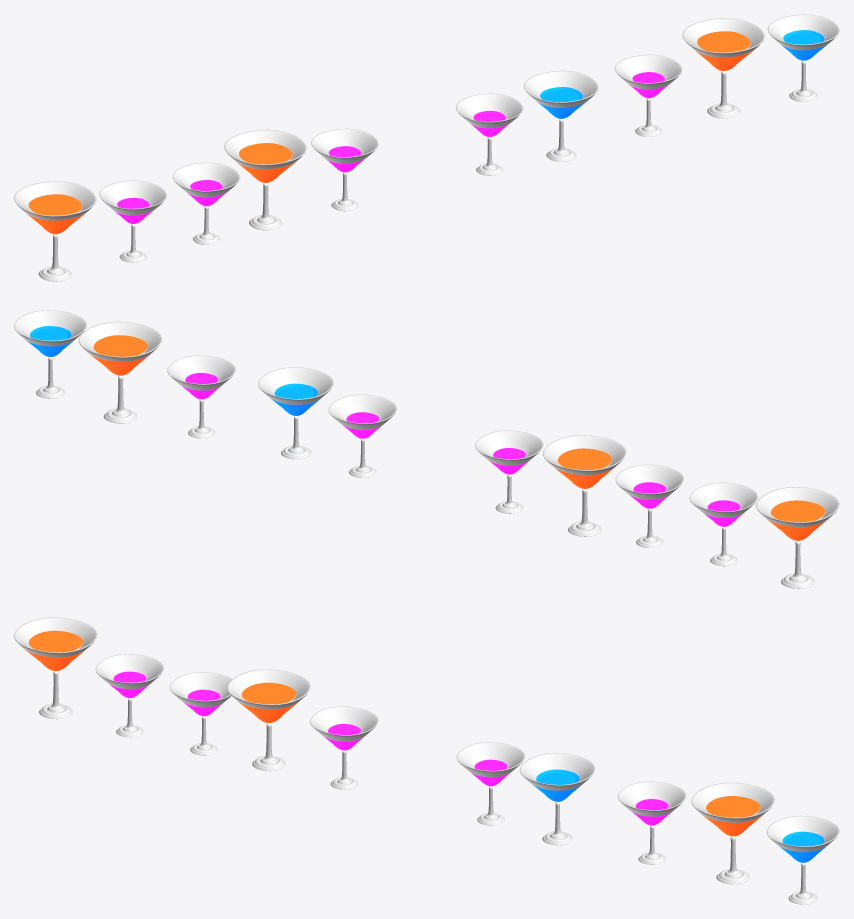
File: drineczki.fbx
The picture shows the model from 3 angles, top to bottom: view 1: azimuth 30°, elevation 25°; view 2: azimuth 150°, elevation 25°; view 3: azimuth 330°, elevation 25°; orthographic projection.
Visible parts, largest first — view 1: drink2_Baked, drink2_Baked.002, drink2_Baked.001, drink1_Baked.001, drink1_Baked, drink3_Baked.001, drink3_Baked, drink3_Baked.003, drink3_Baked.004, drink3_Baked.002; view 2: drink2_Baked, drink2_Baked.001, drink2_Baked.002, drink1_Baked.001, drink1_Baked, drink3_Baked, drink3_Baked.002, drink3_Baked.004, drink3_Baked.001, drink3_Baked.003; view 3: drink2_Baked.002, drink2_Baked, drink2_Baked.001, drink1_Baked.001, drink1_Baked, drink3_Baked.002, drink3_Baked, drink3_Baked.004, drink3_Baked.001, drink3_Baked.003.
Boxes of the visible parts, x1,y1,x2,y2 form: drink2_Baked: (682, 18, 765, 118); drink2_Baked.002: (224, 129, 306, 230); drink2_Baked.001: (14, 181, 96, 281); drink1_Baked.001: (524, 70, 598, 161); drink1_Baked: (767, 14, 839, 101); drink3_Baked.001: (456, 93, 523, 175); drink3_Baked: (615, 54, 682, 136); drink3_Baked.003: (172, 162, 240, 244); drink3_Baked.004: (99, 180, 167, 262); drink3_Baked.002: (311, 128, 378, 211); drink2_Baked: (78, 321, 162, 423); drink2_Baked.001: (756, 487, 839, 588); drink2_Baked.002: (543, 435, 626, 536); drink1_Baked.001: (258, 367, 334, 459); drink1_Baked: (14, 310, 87, 398); drink3_Baked: (167, 355, 235, 438); drink3_Baked.002: (475, 430, 543, 513); drink3_Baked.004: (689, 482, 758, 566); drink3_Baked.001: (328, 394, 397, 477); drink3_Baked.003: (615, 464, 684, 547); drink2_Baked.002: (227, 669, 310, 771); drink2_Baked: (691, 782, 775, 884); drink2_Baked.001: (14, 617, 97, 719); drink1_Baked.001: (519, 753, 595, 845); drink1_Baked: (766, 815, 839, 904); drink3_Baked.002: (310, 706, 378, 789); drink3_Baked: (618, 781, 686, 864); drink3_Baked.004: (95, 654, 164, 737); drink3_Baked.001: (456, 742, 525, 825); drink3_Baked.003: (169, 672, 232, 755).
Bounding box in the file's own units: 1437 × 130 × 136.
Materials: 3 (3 with a texture image).
